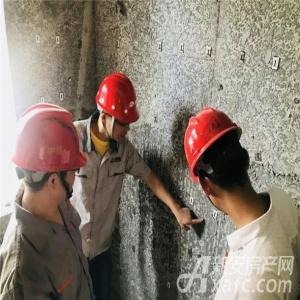red: (184, 108, 259, 219), (13, 105, 84, 208), (97, 75, 141, 145)
